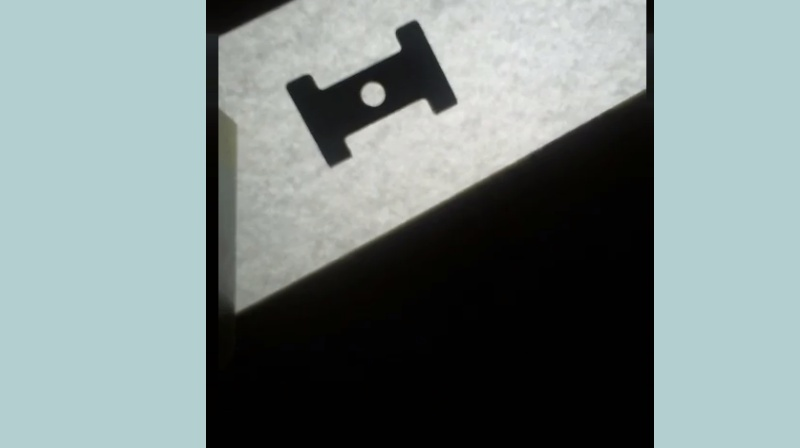O002: (282, 16, 460, 171)
